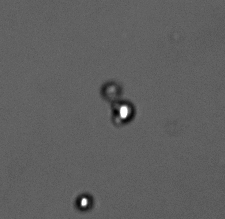Living Cell: (114, 100, 134, 125), (76, 194, 92, 211)
